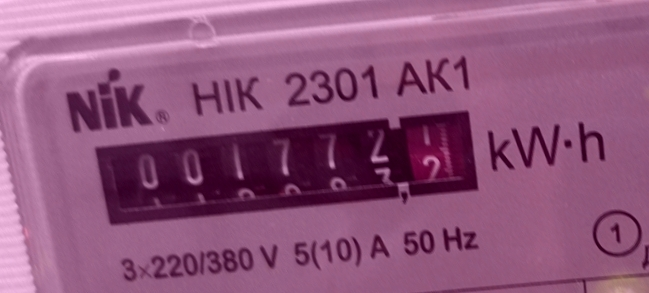0: (133, 147, 163, 190), (180, 144, 206, 185)
1: (229, 139, 248, 179), (419, 121, 434, 147)
2: (366, 126, 391, 164), (419, 151, 444, 181)
3: (373, 163, 396, 186)
7: (271, 134, 296, 177), (317, 130, 341, 170)
screen: (83, 97, 497, 236)
